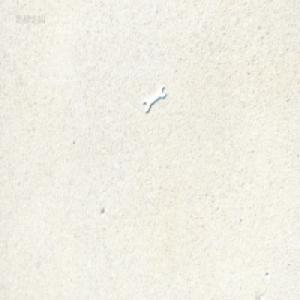Wrench: (142, 83, 166, 113)
